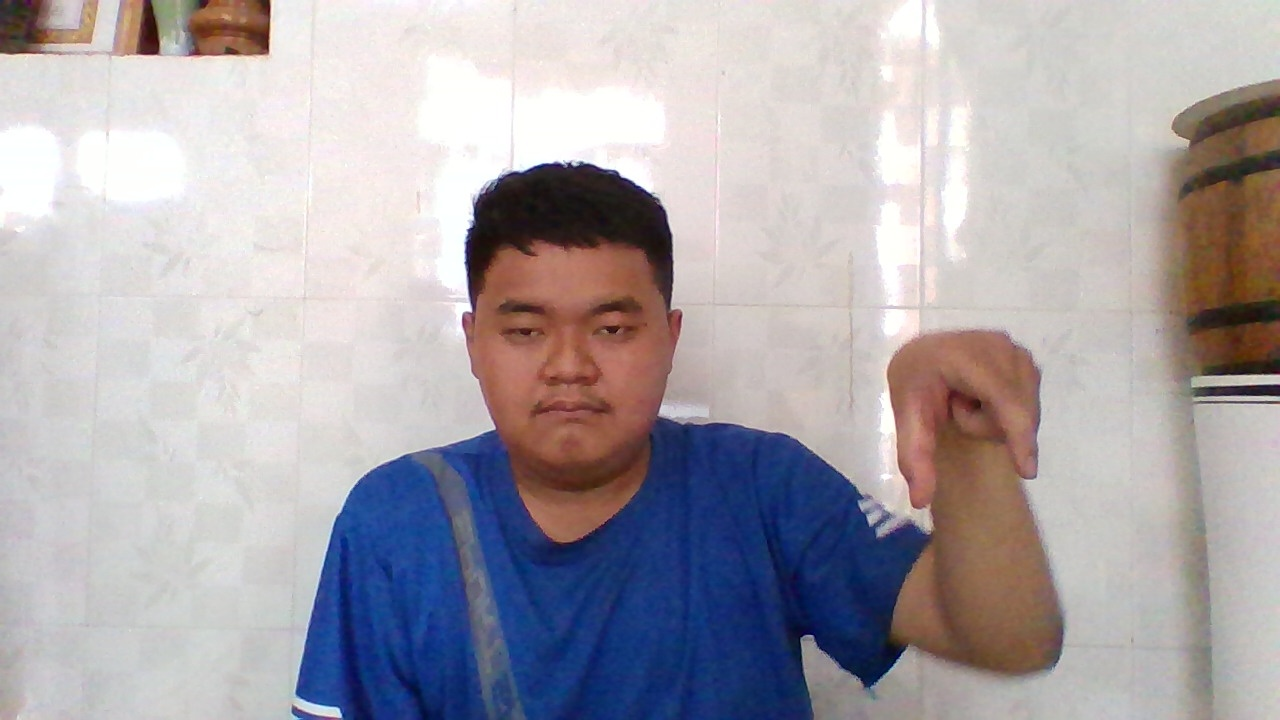Q: (886, 320, 1053, 512)
